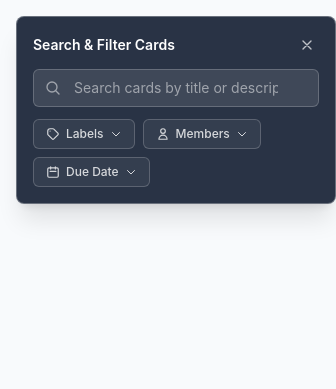
Scenario: CardSearchFilter › empty state › shows message when no labels are available
What coordinates should you click on to do the following:
click the button "Labels"
I would click on:
 (84, 134)
Its box is [33, 119, 135, 149].
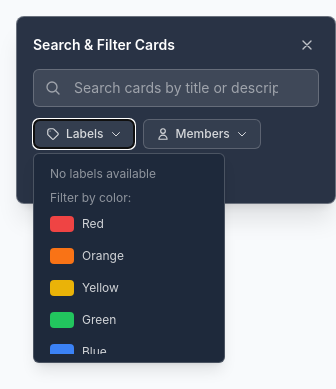
Expected: the text "Filter by color:" is shown, [50, 190, 131, 205]
